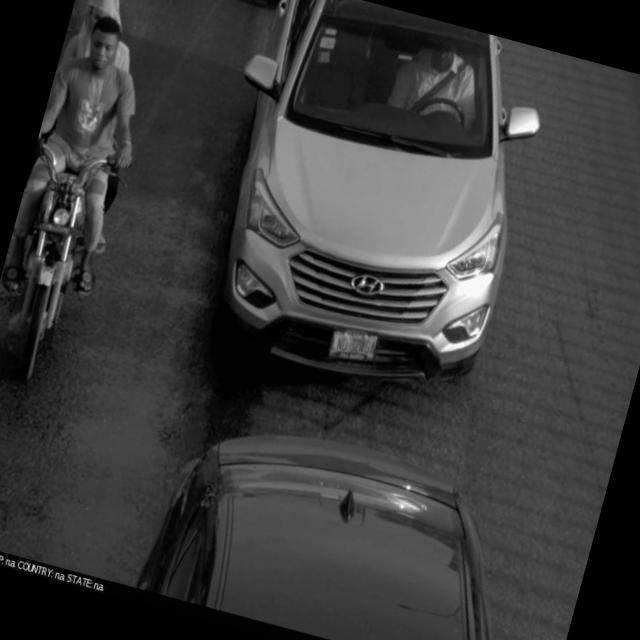person_with_seatbelt: (378, 12, 504, 150)
